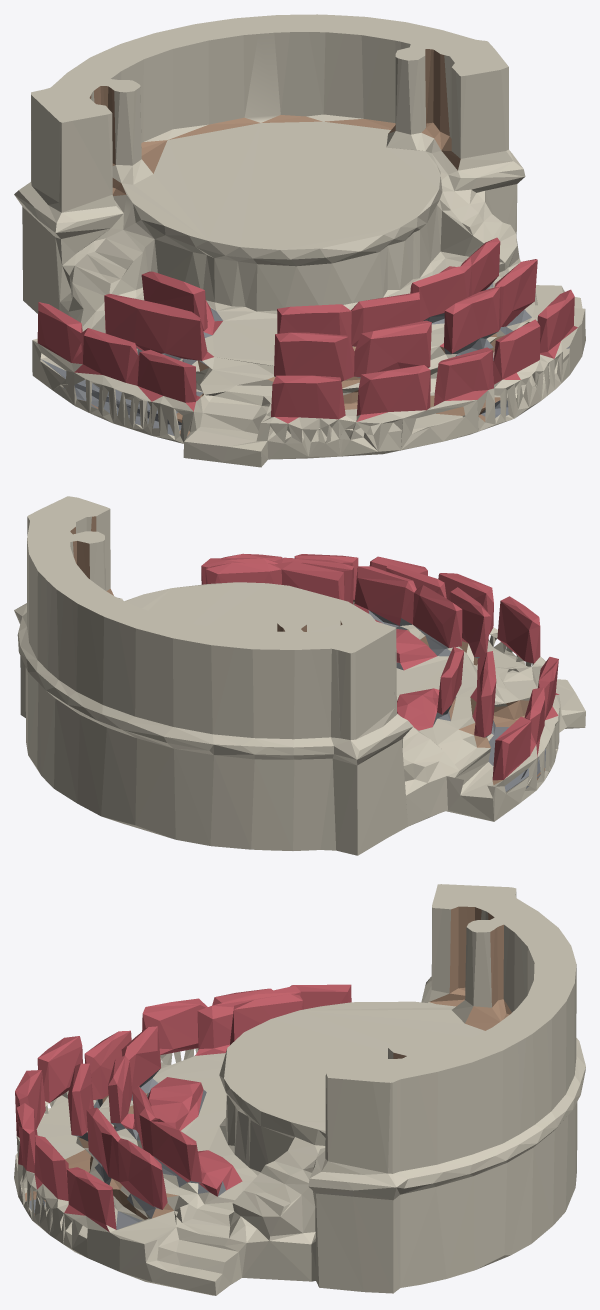
Rendered from etape-2.glb.
The picture shows the model from 3 angles, top to bottom: view 1: azimuth 30°, elevation 25°; view 2: azimuth 150°, elevation 25°; view 3: azimuth 270°, elevation 25°; orthographic projection. The views are drawn at different scales.
Parts seen in each view (by area): view 1: geometry_0; view 2: geometry_0; view 3: geometry_0.
Part boxes in pixels (box(x1,y1,x2,y2)): geometry_0: box(14, 14, 585, 467); geometry_0: box(14, 496, 585, 855); geometry_0: box(14, 884, 585, 1295).
Size of the model in its own units: 0.9826 by 0.409 by 0.9956.
